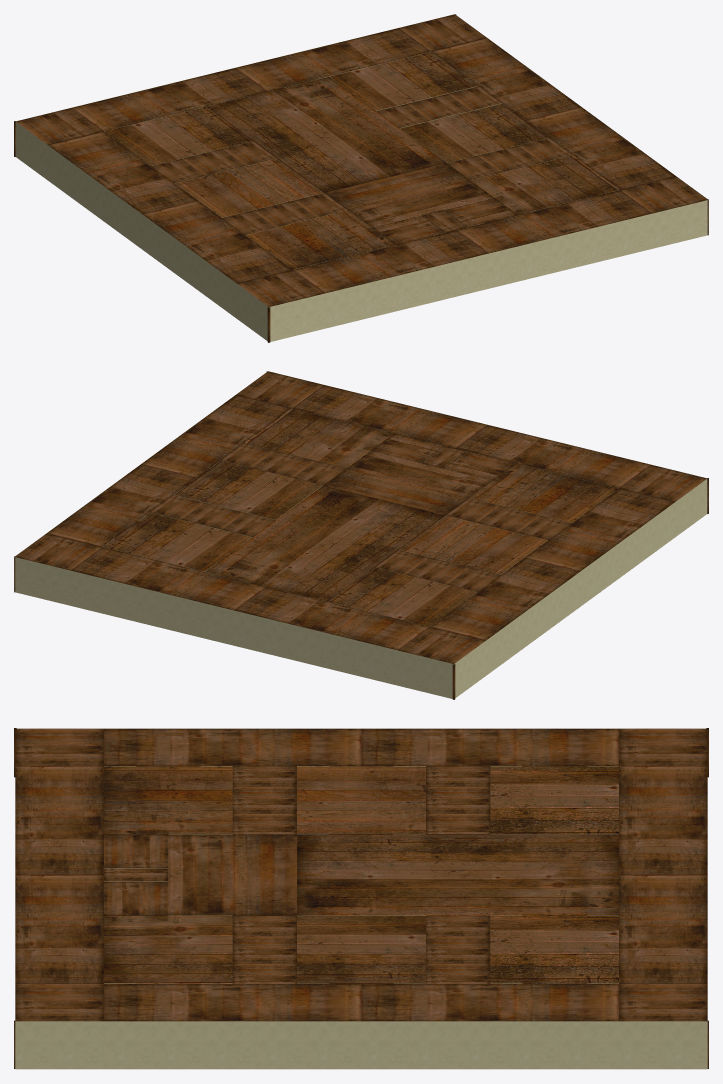
Rendered from test_alfa_map.fbx.
3 views of the same model, one above another, from view 1: azimuth 30°, elevation 25°; view 2: azimuth 150°, elevation 25°; view 3: azimuth 270°, elevation 25° (orthographic). The views are drawn at different scales.
Parts seen in each view (by area): view 1: Map_Ceiling_L, Map_InnerWall_L; view 2: Map_Ceiling_L, Map_InnerWall_L; view 3: Map_Ceiling_L, Map_InnerWall_L.
Boxes of the visible parts, left/top/right/bottom form: Map_Ceiling_L: left=16, top=14, right=707, bottom=306; Map_InnerWall_L: left=15, top=15, right=708, bottom=341; Map_Ceiling_L: left=15, top=371, right=706, bottom=663; Map_InnerWall_L: left=14, top=372, right=707, bottom=698; Map_Ceiling_L: left=15, top=728, right=707, bottom=1021; Map_InnerWall_L: left=15, top=766, right=707, bottom=1069.
Bounding box in the file's own units: 7854 × 607 × 7852.
